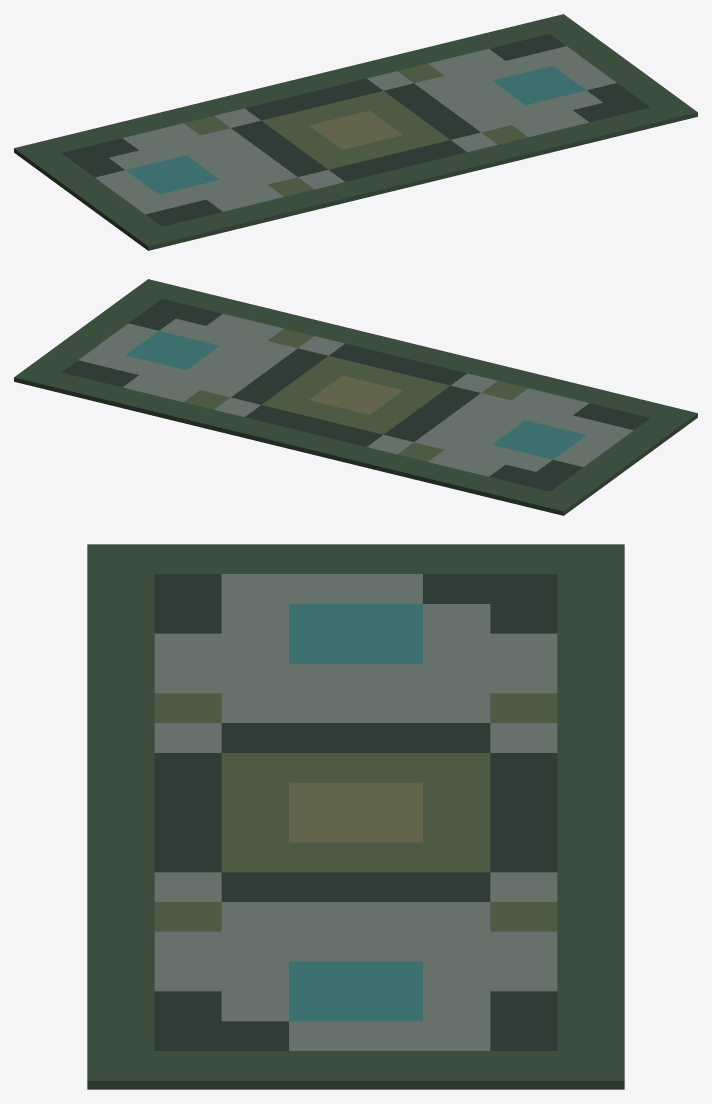
File: bancnota.glb
3 views of the same model, one above another, from view 1: azimuth 30°, elevation 25°; view 2: azimuth 150°, elevation 25°; view 3: azimuth 270°, elevation 25° (orthographic). The views are drawn at different scales.
Parts seen in each view (by area): view 1: Bancnota; view 2: Bancnota; view 3: Bancnota.
Part boxes in pixels (box(x1,y1,x2,y2)): Bancnota: box(14, 14, 697, 250); Bancnota: box(14, 279, 697, 515); Bancnota: box(87, 544, 624, 1089).
Bounding box in the file's own units: 0.156 × 0.0012 × 0.066.
